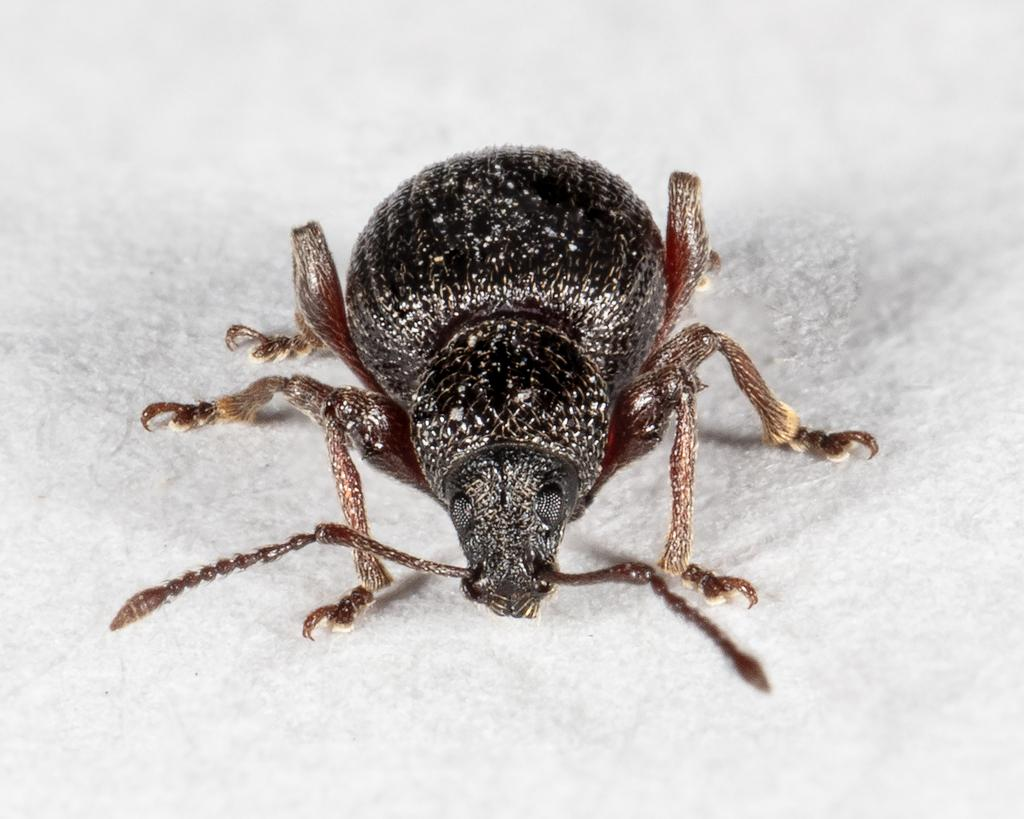weevils: (67, 97, 929, 771)
